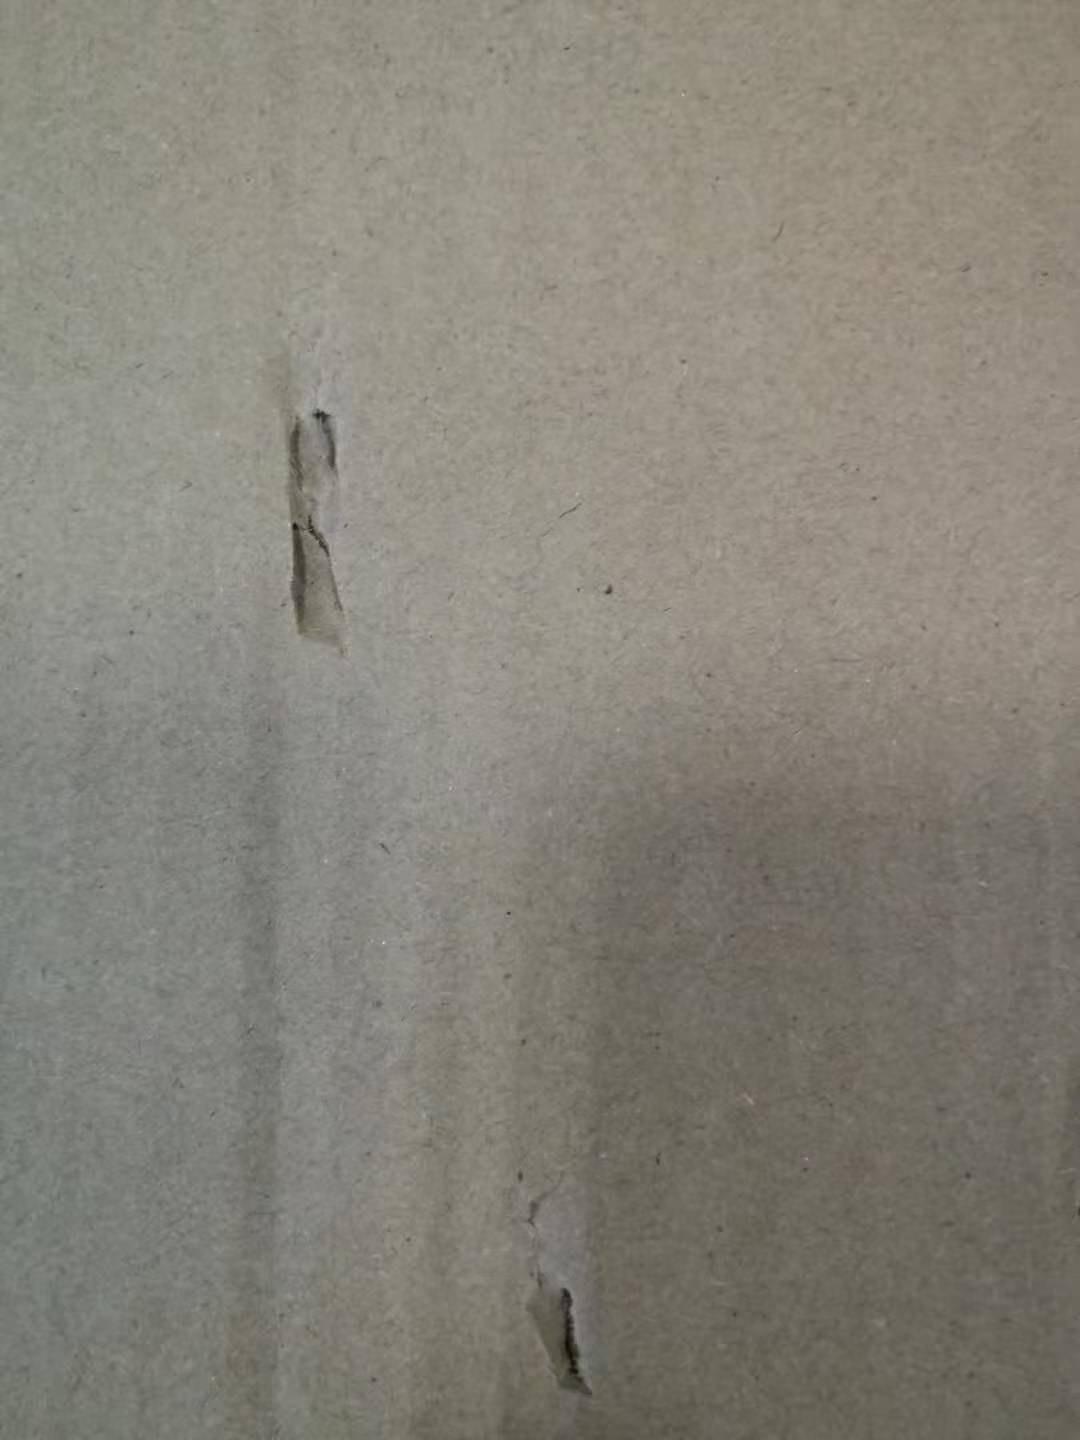defect: (229, 325, 411, 718), (476, 1142, 646, 1440)
